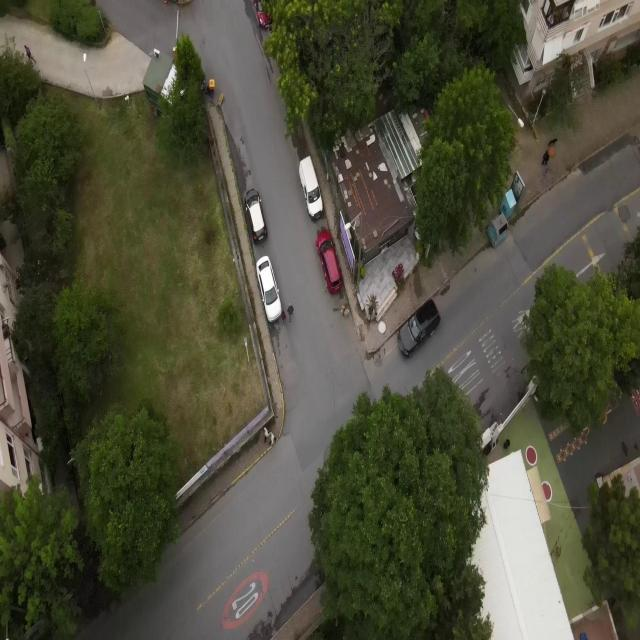p3rson: (24, 43, 36, 65), (286, 302, 294, 326), (541, 149, 550, 166), (281, 309, 287, 328)
